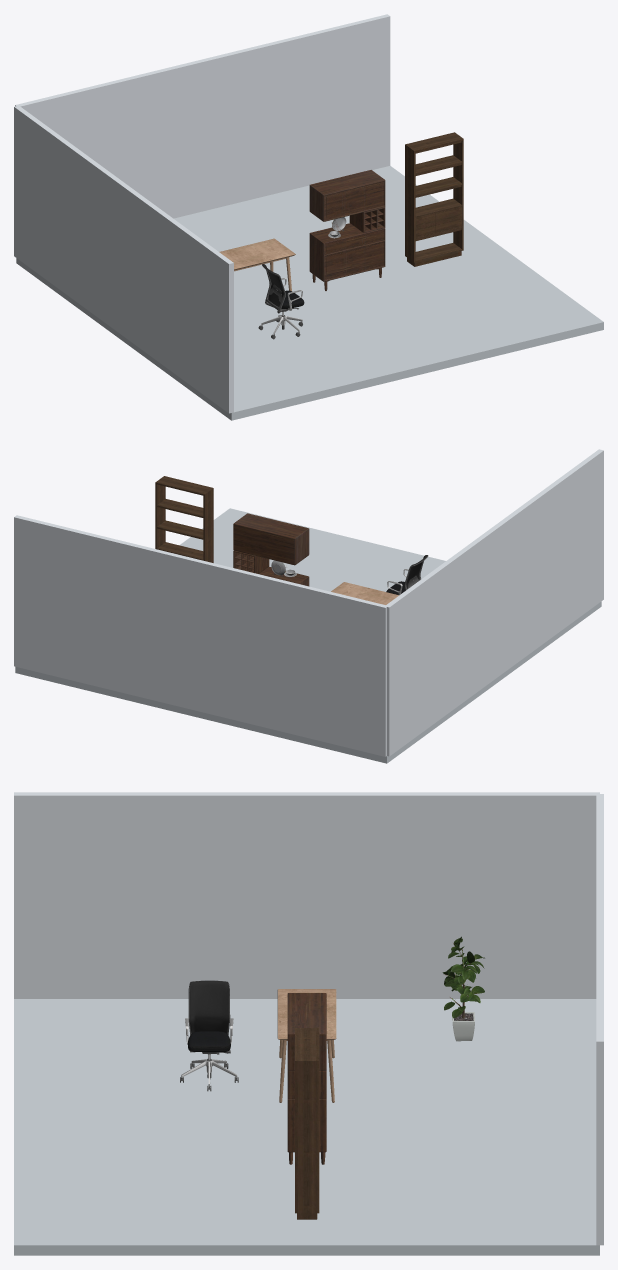
Rendered from stage2.glb.
The picture shows the model from 3 angles, top to bottom: view 1: azimuth 30°, elevation 25°; view 2: azimuth 150°, elevation 25°; view 3: azimuth 270°, elevation 25°; orthographic projection. The views are drawn at different scales.
Parts seen in each view (by area): view 1: Floor, wall_back, wall_left, raw_model.003, raw_model.002, raw_model, raw_model.001; view 2: wall_back, wall_left, Floor, raw_model.003, raw_model.002, raw_model, raw_model.001; view 3: Floor, wall_left, raw_model.002, raw_model.001, wall_back, raw_model.003, raw_model.004, raw_model.
Part boxes in pixels (x1,y1,x2,y2): Floor: [16, 165, 603, 420]; wall_back: [15, 14, 390, 218]; wall_left: [14, 105, 233, 413]; raw_model.003: [309, 170, 385, 290]; raw_model.002: [405, 132, 463, 266]; raw_model: [219, 238, 295, 291]; raw_model.001: [258, 264, 304, 339]; wall_back: [14, 515, 387, 756]; wall_left: [386, 449, 603, 756]; Floor: [15, 508, 601, 763]; raw_model.003: [233, 513, 309, 586]; raw_model.002: [155, 476, 213, 562]; raw_model: [331, 582, 398, 604]; raw_model.001: [386, 555, 428, 595]; Floor: [14, 999, 599, 1255]; wall_left: [14, 792, 599, 998]; raw_model.002: [295, 1028, 319, 1219]; raw_model.001: [180, 980, 238, 1091]; wall_back: [596, 794, 603, 1245]; raw_model.003: [287, 993, 326, 1164]; raw_model.004: [442, 936, 484, 1041]; raw_model: [277, 989, 336, 1102].
Bounding box in the file's own units: 6.04 × 2.42 × 6.04.
7 materials, 5 textured.
